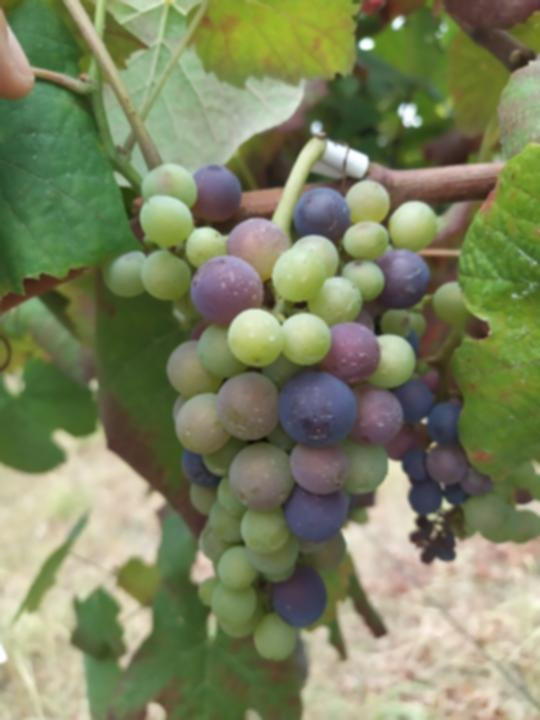grape: (99, 159, 442, 666)
